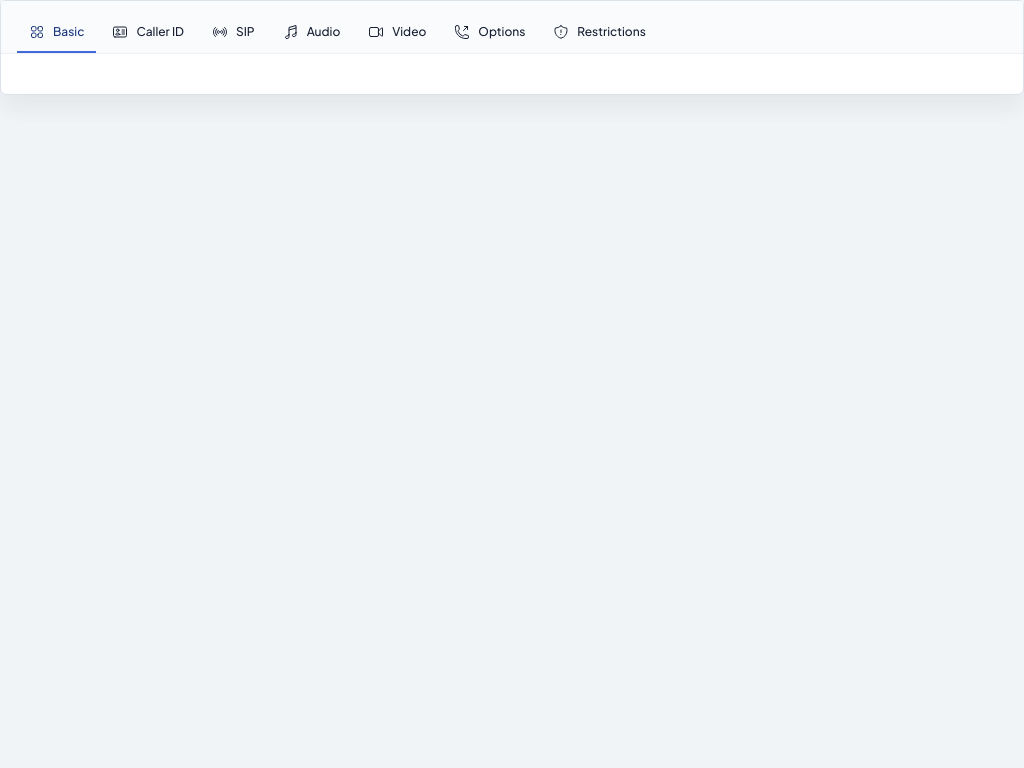
Test: DeviceAdvancedSettings › shows ordered codec and ringtone controls in their Switch-backed tabs
Click the tab "Audio": {"x": 311, "y": 33} [271, 13, 352, 53]
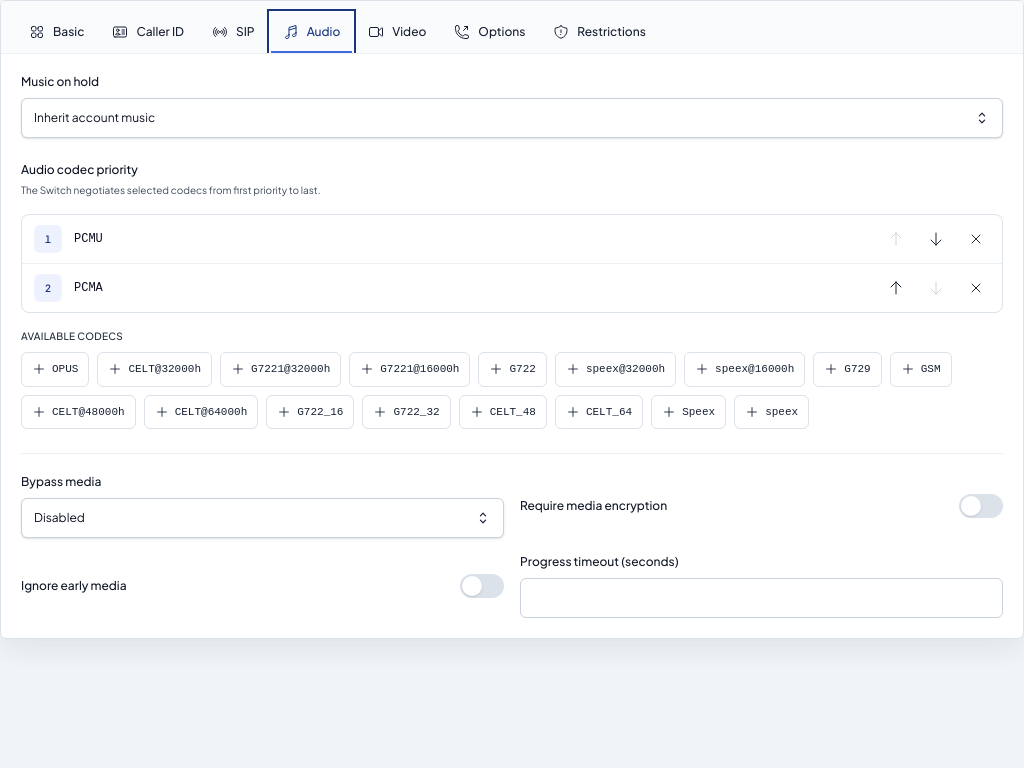
Expected: the text "Audio codec priority" is shown, [21, 162, 138, 177]
Expected: the text "Music on hold" is shown, [21, 74, 99, 89]
Expected: the button with aria-label "Select device music on hold" is shown, [21, 98, 1003, 138]
Click the tab "Options": {"x": 490, "y": 33} [442, 13, 537, 53]
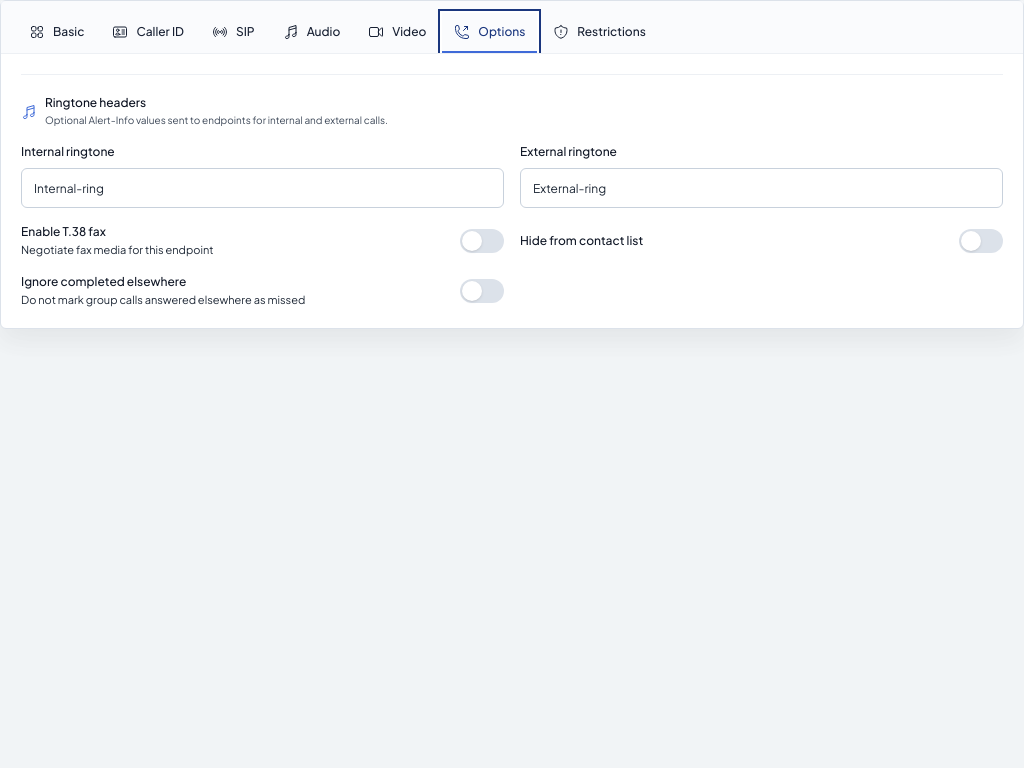
Expected: the field with placeholder "Internal-ring" is shown, [21, 168, 504, 208]
Expected: the field with placeholder "External-ring" is shown, [520, 168, 1003, 208]
Expected: the text "Ringtone headers" is shown, [45, 95, 146, 110]
